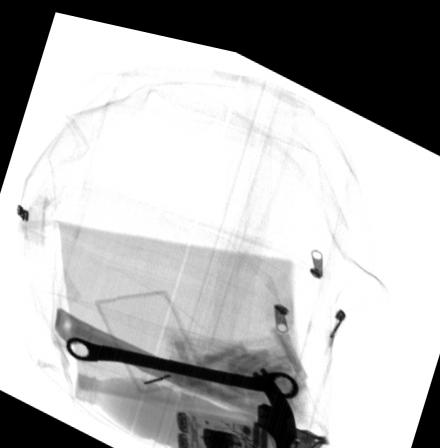Hammer: (53, 304, 296, 448)
Wrench: (64, 332, 296, 387)
